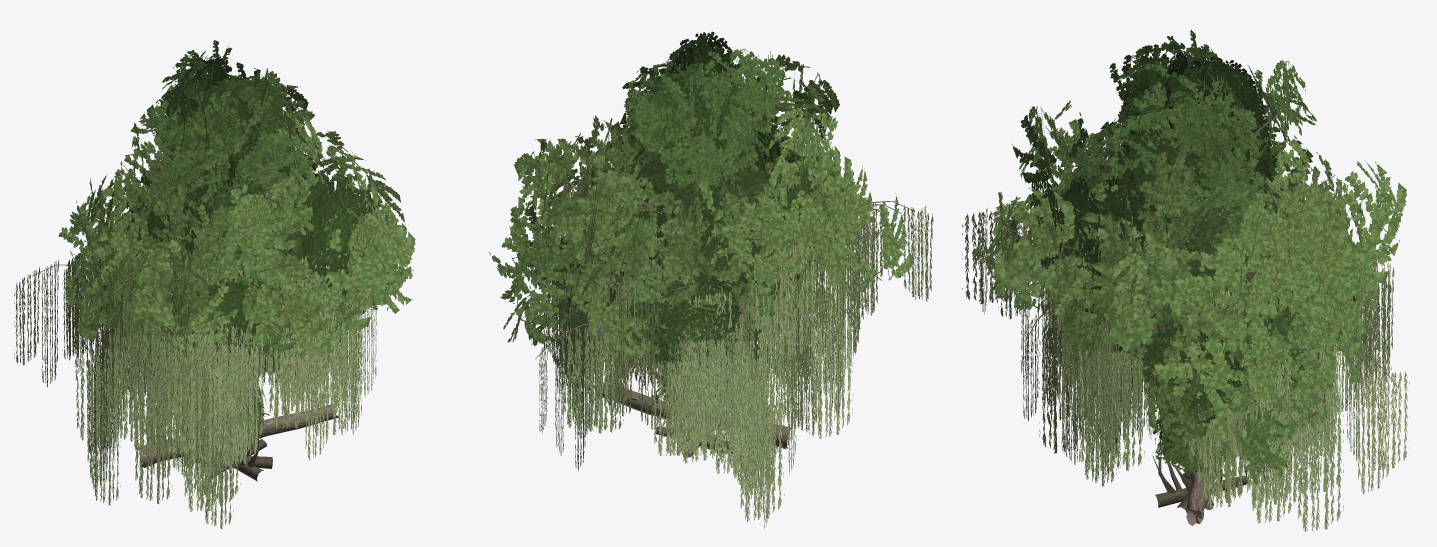
File: fdx-trees.glb
3 views of the same model, side by side, from view 1: azimuth 30°, elevation 25°; view 2: azimuth 150°, elevation 25°; view 3: azimuth 270°, elevation 25° (orthographic). The views are drawn at different scales.
Visible parts, largest first — view 1: fdx_tree_oak_b_lod0, fdx_tree_willow_b_lod0, fdx_tree_oak_c_lod0, fdx_tree_willow_a_lod0, fdx_tree_alder_b_lod0, fdx_tree_oak_a_lod0, fdx_tree_alder_a_lod0, fdx_tree_alder_c_lod0, fdx_log_b_lod0, fdx_log_a_lod0; view 2: fdx_tree_willow_b_lod0, fdx_tree_oak_c_lod0, fdx_tree_willow_a_lod0, fdx_tree_oak_b_lod0, fdx_tree_oak_a_lod0, fdx_tree_alder_a_lod0, fdx_tree_alder_b_lod0, fdx_tree_alder_c_lod0, fdx_log_a_lod0; view 3: fdx_tree_oak_b_lod0, fdx_tree_oak_a_lod0, fdx_tree_oak_c_lod0, fdx_tree_willow_a_lod0, fdx_tree_willow_b_lod0, fdx_tree_alder_a_lod0, fdx_tree_alder_b_lod0, fdx_tree_alder_c_lod0, fdx_snag_c_lod0, fdx_tree_shrub_b_lod0, fdx_tree_shrub_c_lod0.
Boxes of the visible parts, bbox=[...] form: fdx_tree_oak_b_lod0: bbox=[79, 71, 415, 452]; fdx_tree_willow_b_lod0: bbox=[14, 206, 348, 511]; fdx_tree_oak_c_lod0: bbox=[58, 91, 401, 451]; fdx_tree_willow_a_lod0: bbox=[87, 190, 376, 528]; fdx_tree_alder_b_lod0: bbox=[147, 62, 356, 374]; fdx_tree_oak_a_lod0: bbox=[91, 145, 412, 452]; fdx_tree_alder_a_lod0: bbox=[121, 40, 377, 364]; fdx_tree_alder_c_lod0: bbox=[153, 74, 314, 375]; fdx_log_b_lod0: bbox=[137, 393, 334, 467]; fdx_log_a_lod0: bbox=[137, 396, 338, 467]; fdx_tree_willow_b_lod0: bbox=[535, 266, 853, 528]; fdx_tree_oak_c_lod0: bbox=[489, 54, 913, 428]; fdx_tree_willow_a_lod0: bbox=[550, 162, 933, 451]; fdx_tree_oak_b_lod0: bbox=[514, 82, 871, 297]; fdx_tree_oak_a_lod0: bbox=[500, 129, 857, 362]; fdx_tree_alder_a_lod0: bbox=[503, 62, 757, 358]; fdx_tree_alder_b_lod0: bbox=[629, 31, 800, 363]; fdx_tree_alder_c_lod0: bbox=[615, 39, 750, 370]; fdx_log_a_lod0: bbox=[603, 369, 792, 448]; fdx_tree_oak_b_lod0: bbox=[972, 47, 1356, 483]; fdx_tree_oak_a_lod0: bbox=[989, 143, 1378, 483]; fdx_tree_oak_c_lod0: bbox=[993, 100, 1407, 482]; fdx_tree_willow_a_lod0: bbox=[962, 178, 1374, 523]; fdx_tree_willow_b_lod0: bbox=[1023, 250, 1409, 531]; fdx_tree_alder_a_lod0: bbox=[1047, 56, 1324, 483]; fdx_tree_alder_b_lod0: bbox=[1049, 29, 1246, 455]; fdx_tree_alder_c_lod0: bbox=[1130, 52, 1287, 407]; fdx_snag_c_lod0: bbox=[1152, 447, 1249, 507]; fdx_tree_shrub_b_lod0: bbox=[1155, 418, 1225, 472]; fdx_tree_shrub_c_lod0: bbox=[1153, 414, 1225, 477].
Size of what is drawn, in the model's own units: 10.87 by 12.49 by 10.47.
Materials: 2 (2 with a texture image).
